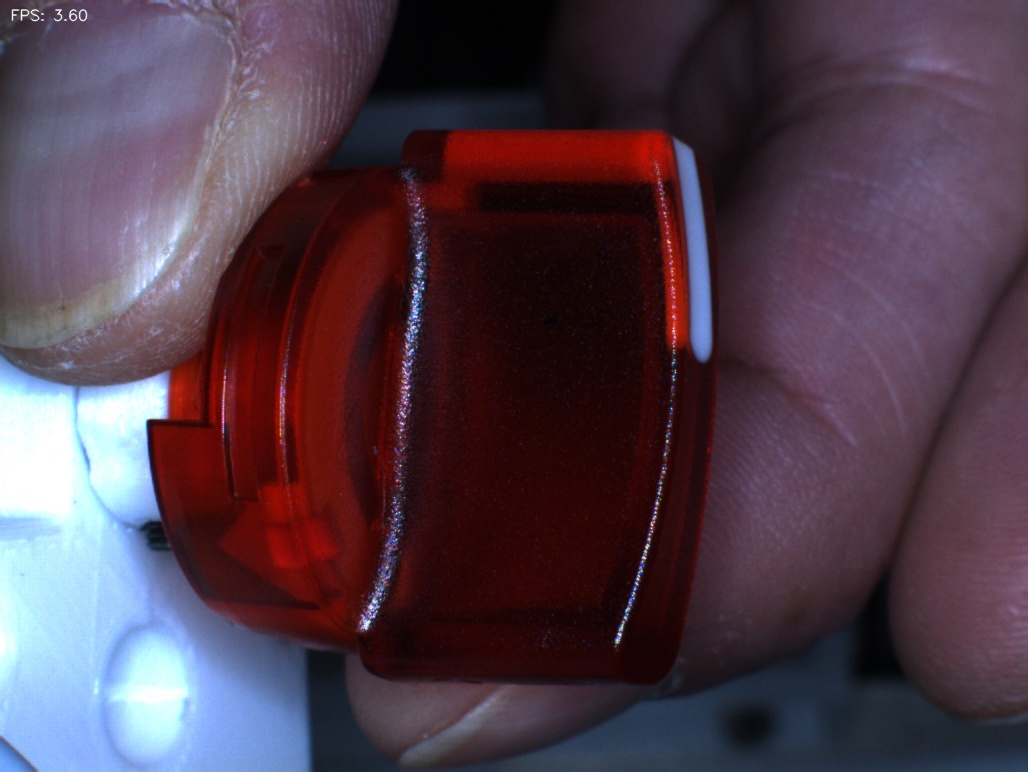PointNoir: (503, 277, 596, 364)
